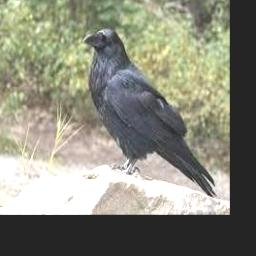Crow: (82, 28, 216, 199)
